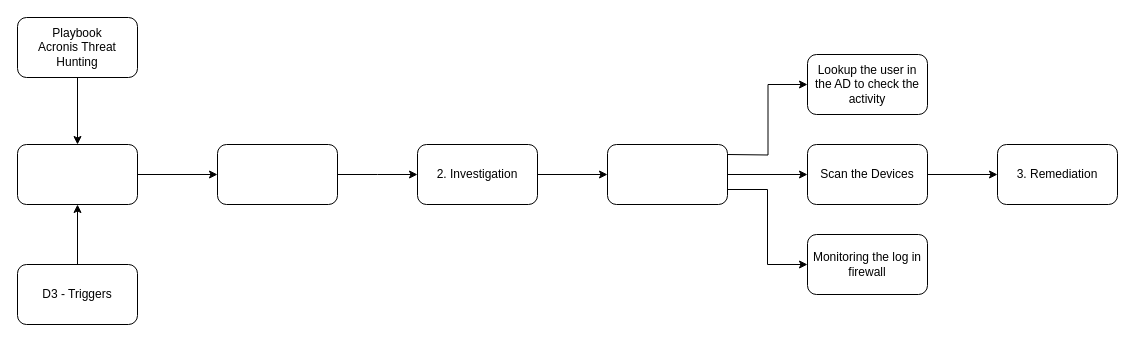
This 1135x342 diagram has some shape labels left out. Here are the shapes that lost their labels. From the top down, the centre of each, then its label:
At (x=77, y=174): "1. Data Ingestion".
At (x=277, y=174): "Get malicious process (Fetch Incident)".
At (x=667, y=174): "Gather Affected devices (Hostname, IP Address, OS Version)".
